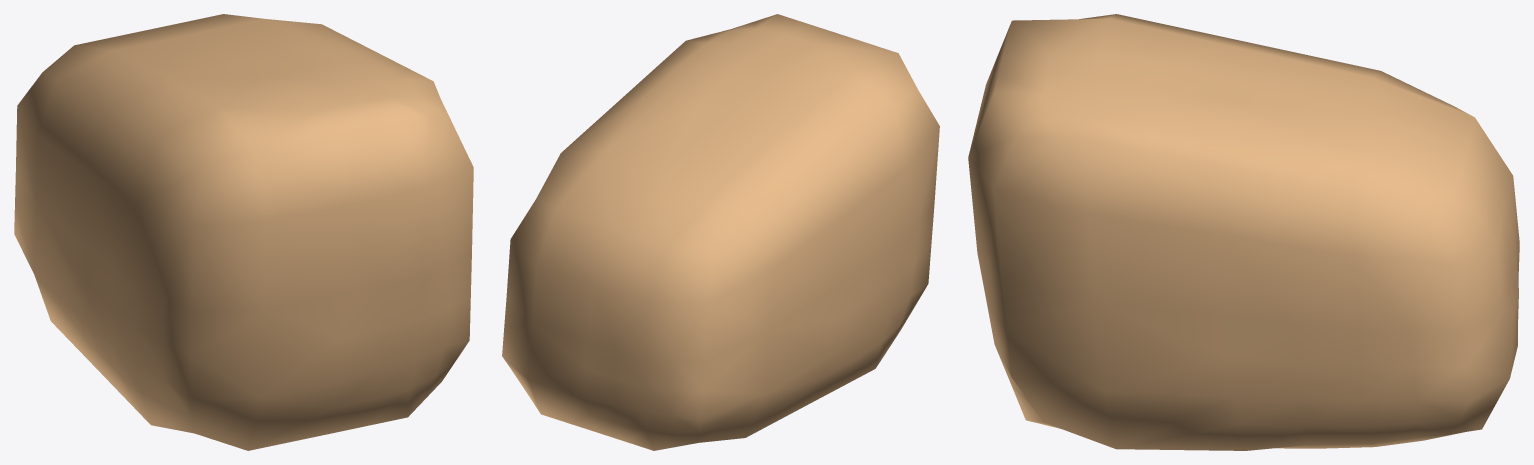
The model's file is index_03_r.dae.
3 renders of one model, left to right at view 1: azimuth 30°, elevation 25°; view 2: azimuth 150°, elevation 25°; view 3: azimuth 270°, elevation 25°, orthographic. The views are drawn at different scales.
Visible parts, largest first — view 1: skin_geo_index_03_r; view 2: skin_geo_index_03_r; view 3: skin_geo_index_03_r.
Boxes of the visible parts, <box> form: skin_geo_index_03_r: <box>14,14,473,450</box>; skin_geo_index_03_r: <box>502,14,939,450</box>; skin_geo_index_03_r: <box>968,14,1519,450</box>.
Bounding box in the file's own units: 0.0152 × 0.0223 × 0.0157.
